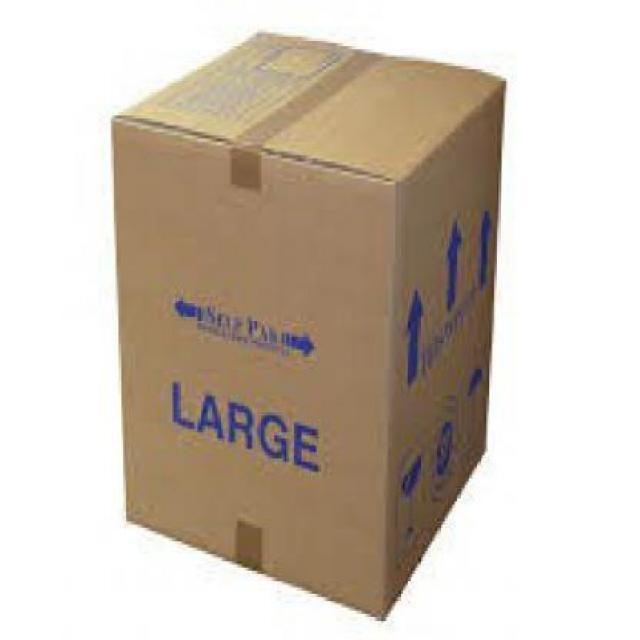box: (86, 30, 517, 624)
